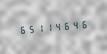five: (26, 22, 34, 35)
four: (53, 20, 61, 33), (71, 18, 79, 31)
one: (44, 20, 52, 34), (35, 21, 43, 34)
six: (17, 23, 25, 36), (62, 19, 70, 32), (80, 17, 88, 30)
